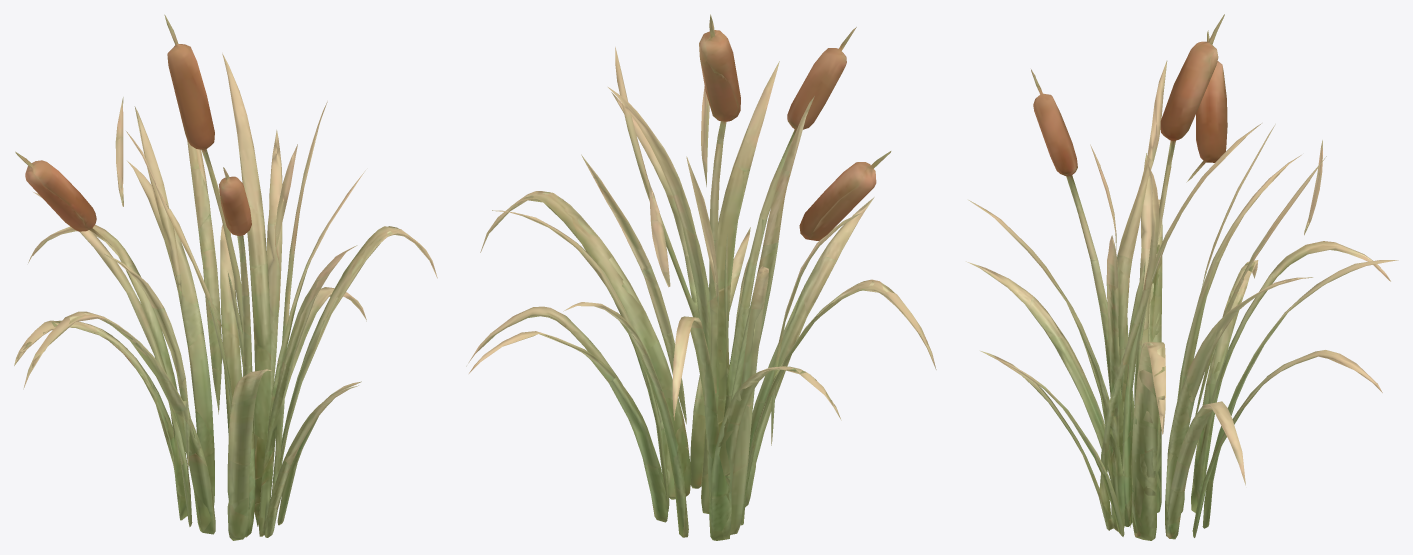
Rendered from reeds.glb.
3 renders of one model, left to right at view 1: azimuth 30°, elevation 25°; view 2: azimuth 150°, elevation 25°; view 3: azimuth 270°, elevation 25°, orthographic. The views are drawn at different scales.
Size of the model in its own units: 1.67 by 1.9 by 1.5.
1 material, 1 textured.
